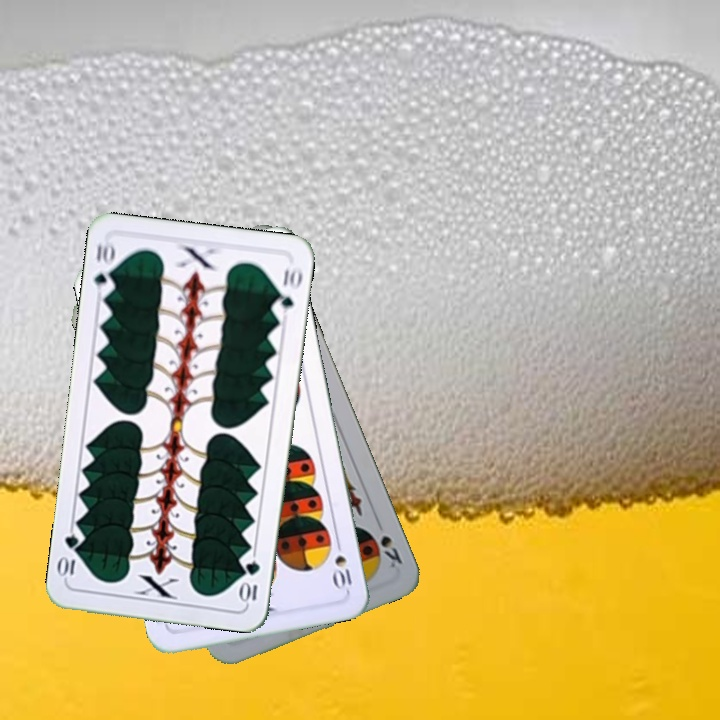G10: (90, 237, 118, 297), (238, 557, 262, 606)
S10: (330, 535, 354, 593)
SK: (372, 515, 405, 571)
